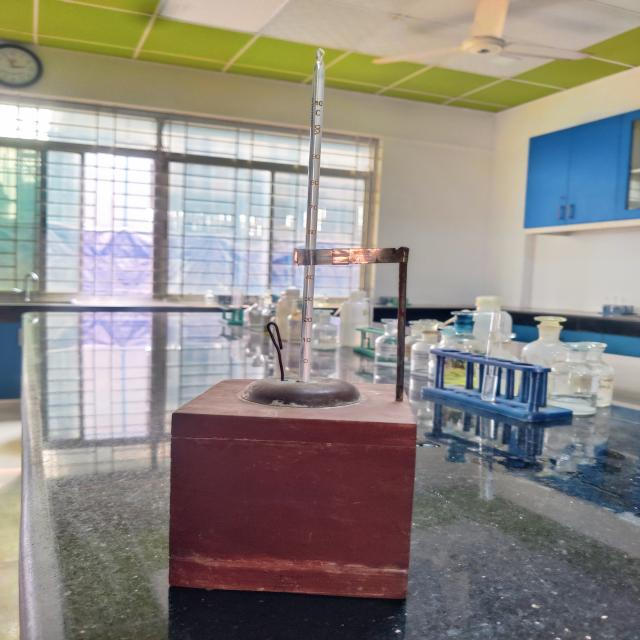Calorimeter: (138, 35, 470, 617)
